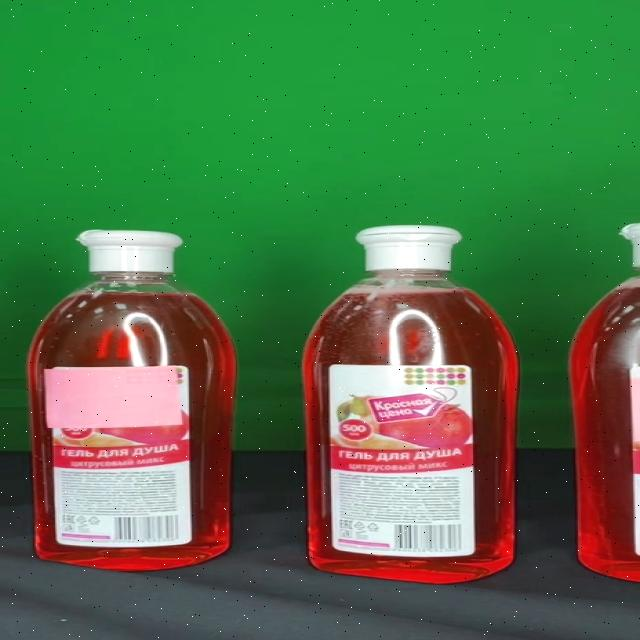Bottle: (300, 226, 517, 583), (28, 230, 236, 571)
Cap: (356, 227, 462, 270), (78, 230, 184, 273)
